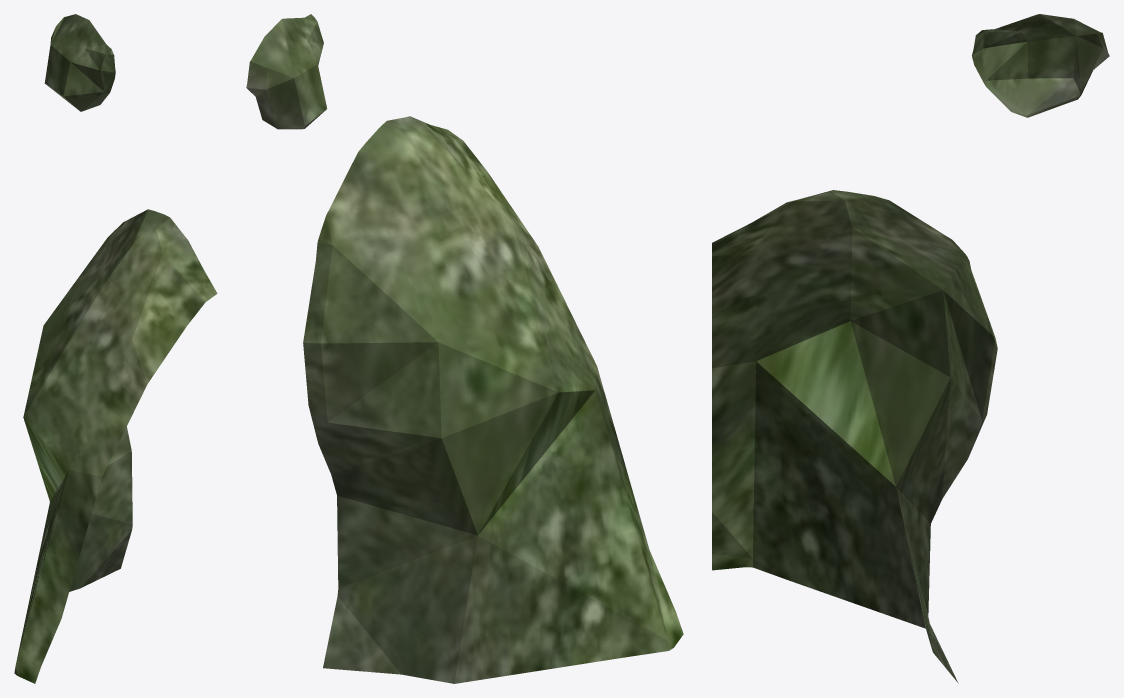
3 renders of one model, left to right at view 1: azimuth 30°, elevation 25°; view 2: azimuth 150°, elevation 25°; view 3: azimuth 270°, elevation 25°, orthographic. The views are drawn at different scales.
Bounding box in the file's own units: 0.9343 × 2.5 × 1.35.
1 material, 1 textured.
